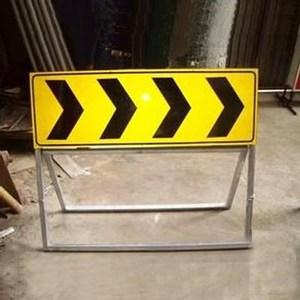sign: (31, 74, 256, 151)
